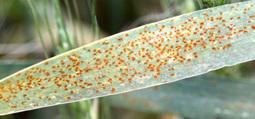Wheat: (99, 8, 253, 90), (2, 45, 119, 113)
